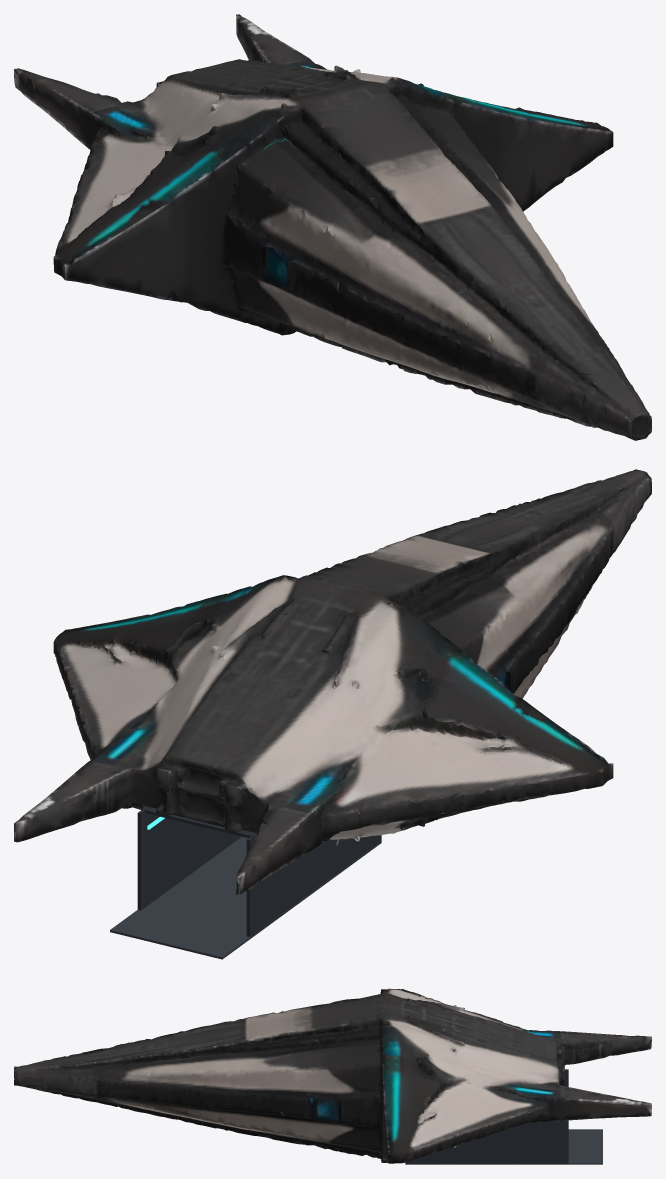
The model's file is Landing_Starwing.glb.
The picture shows the model from 3 angles, top to bottom: view 1: azimuth 30°, elevation 25°; view 2: azimuth 150°, elevation 25°; view 3: azimuth 270°, elevation 25°; orthographic projection. The views are drawn at different scales.
Visible parts, largest first — view 1: Landing_Starwing; view 2: Landing_Starwing; view 3: Landing_Starwing.
Boxes of the visible parts, x1,y1,x2,y2 form: Landing_Starwing: [14, 14, 651, 440]; Landing_Starwing: [14, 469, 651, 959]; Landing_Starwing: [14, 988, 651, 1164].
Bounding box in the file's own units: 16 × 6.42 × 26.
5 materials, 1 textured.
